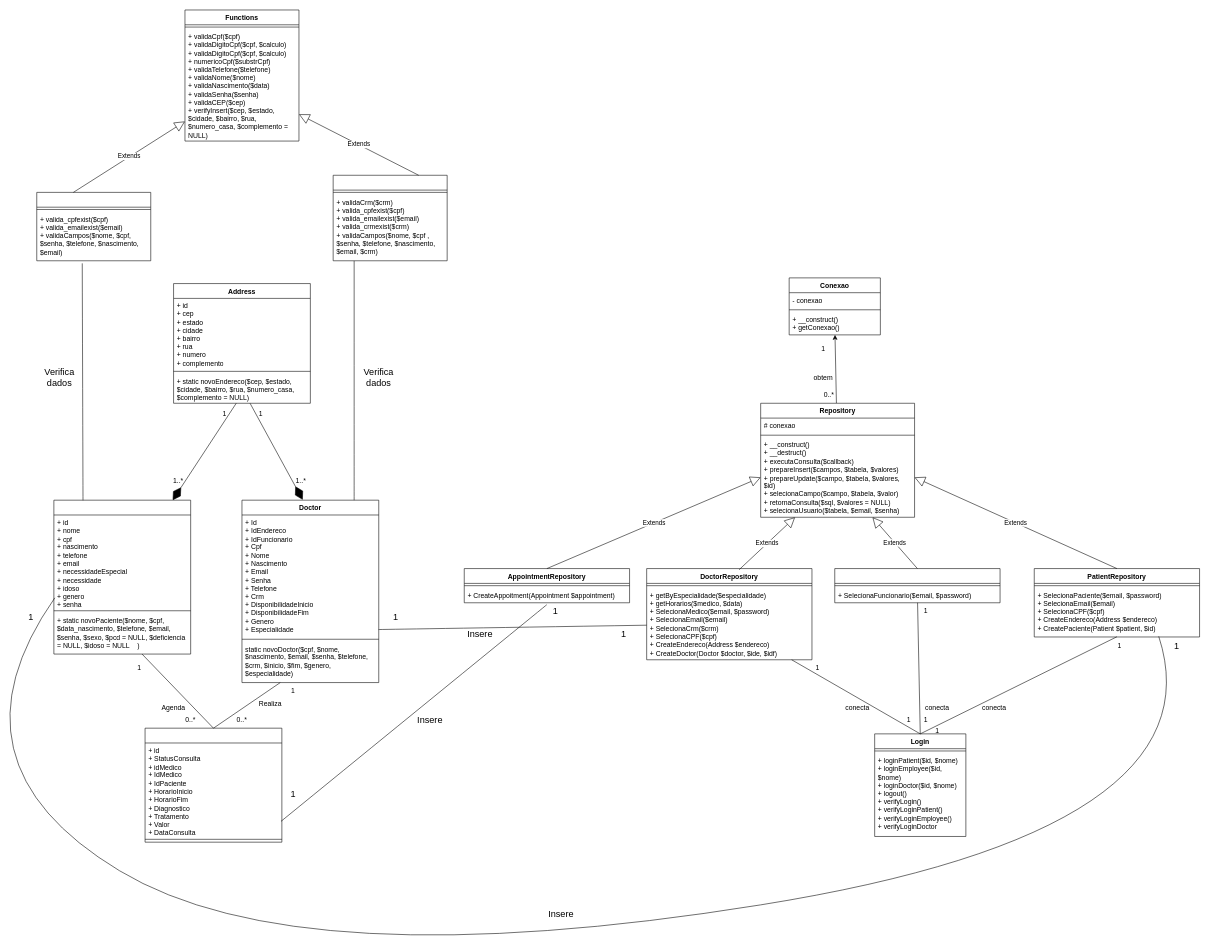
Some shapes in this 1210 by 945 pixel diagram are drawn without their labels. The box of each missing label's shape, as (x1, y1, x2, y2) in pixels:
Appointment: (144, 728, 282, 842)
EmployeeRepository: (834, 568, 1000, 603)
FunctionsMed: (333, 175, 447, 261)
FunctionsPatient: (36, 192, 151, 261)
Patient: (53, 500, 191, 654)
